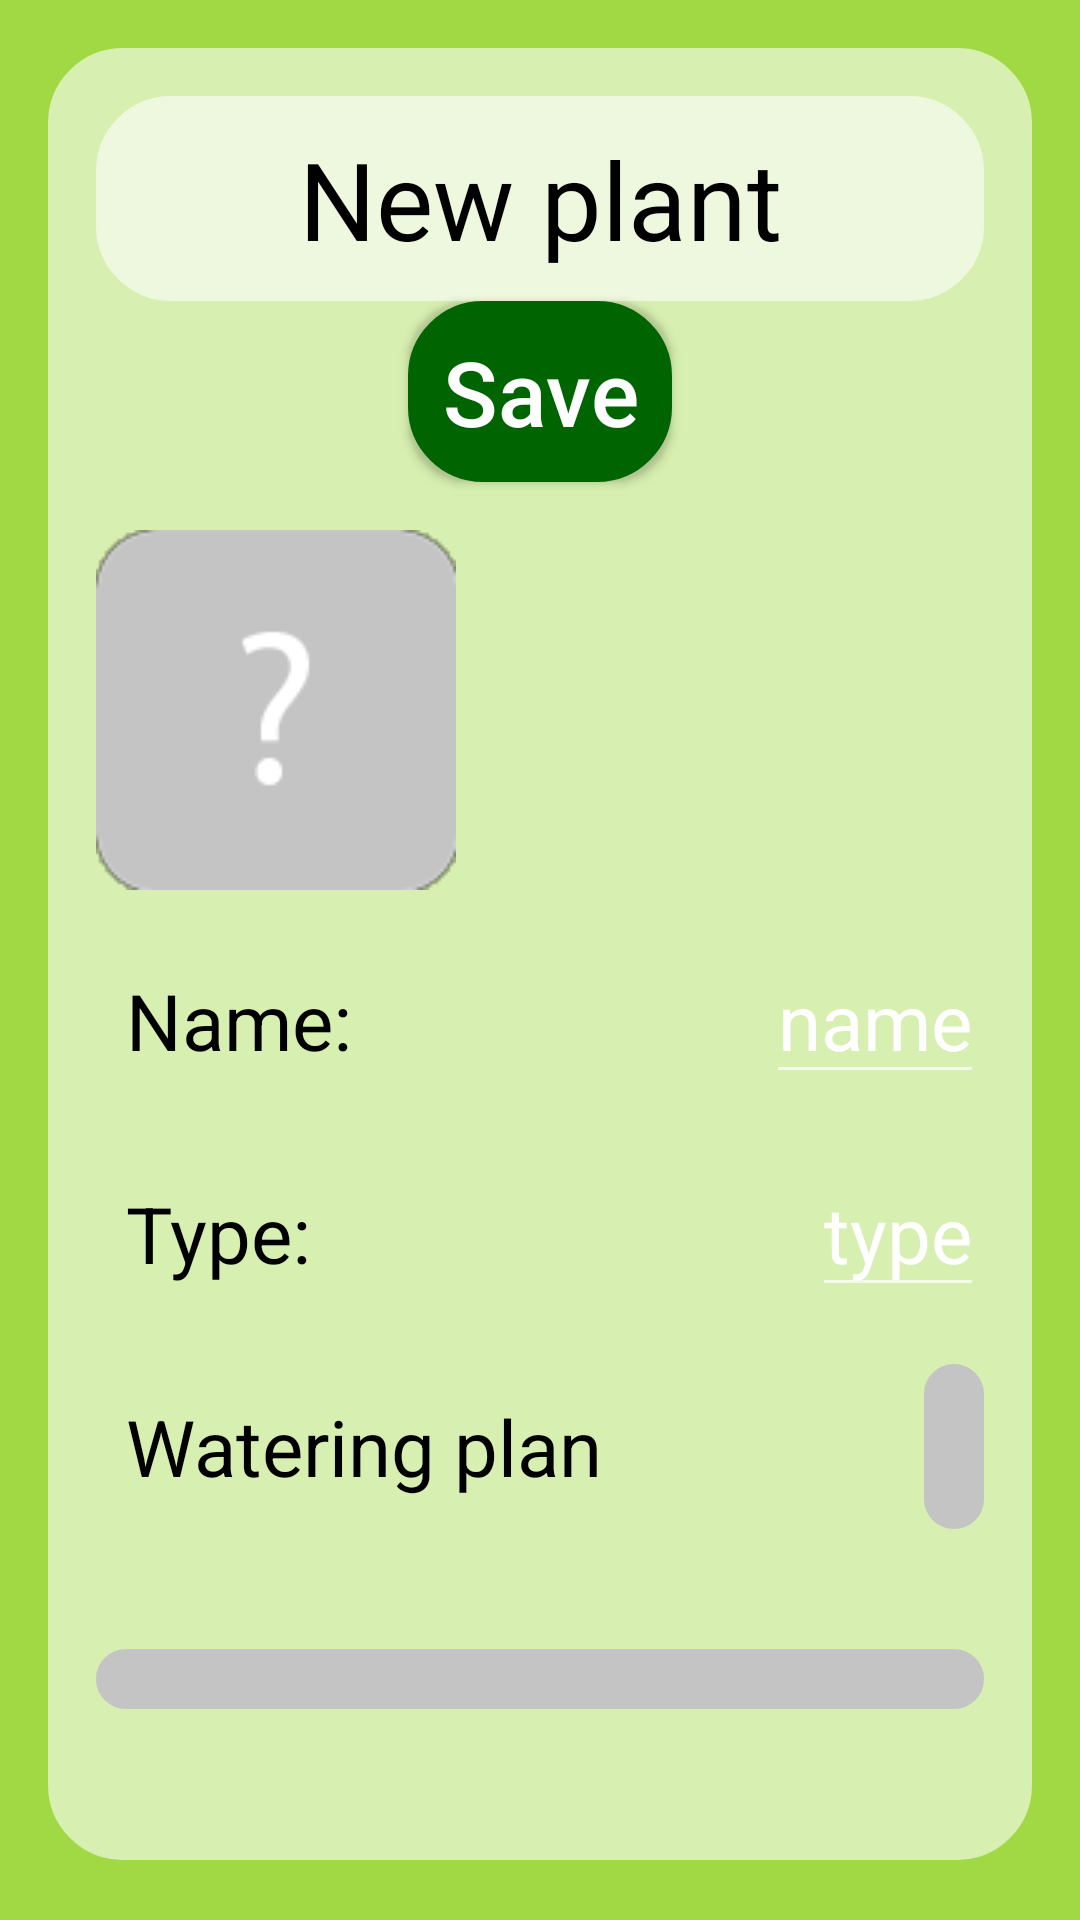

Where icons sit on this 1080 x 1920 app screen, as detection(x1, y1, x2, y2):
def ava: detection(96, 530, 456, 890)
